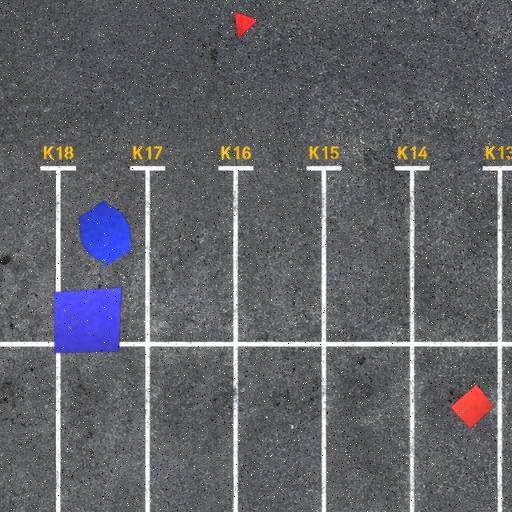BLUE_SQUARE: (53, 286, 122, 354)
RED_SQUARE: (450, 384, 495, 430)
